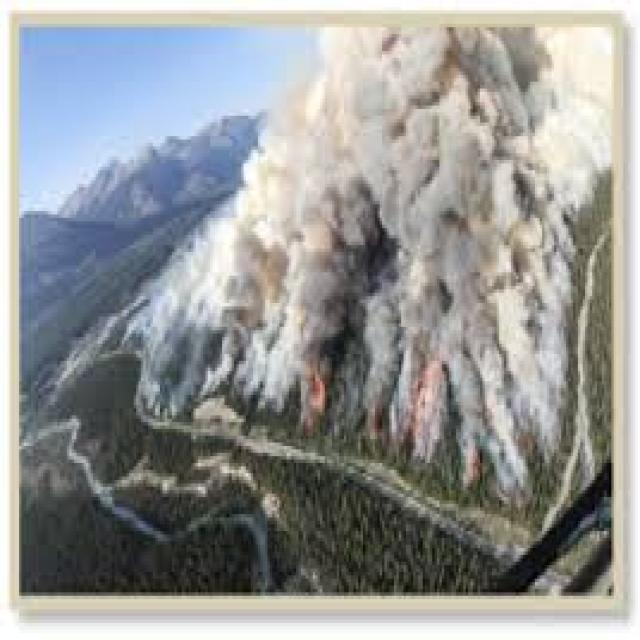Smoke: (129, 253, 398, 444), (400, 32, 617, 258), (402, 262, 575, 503), (223, 22, 398, 260)
